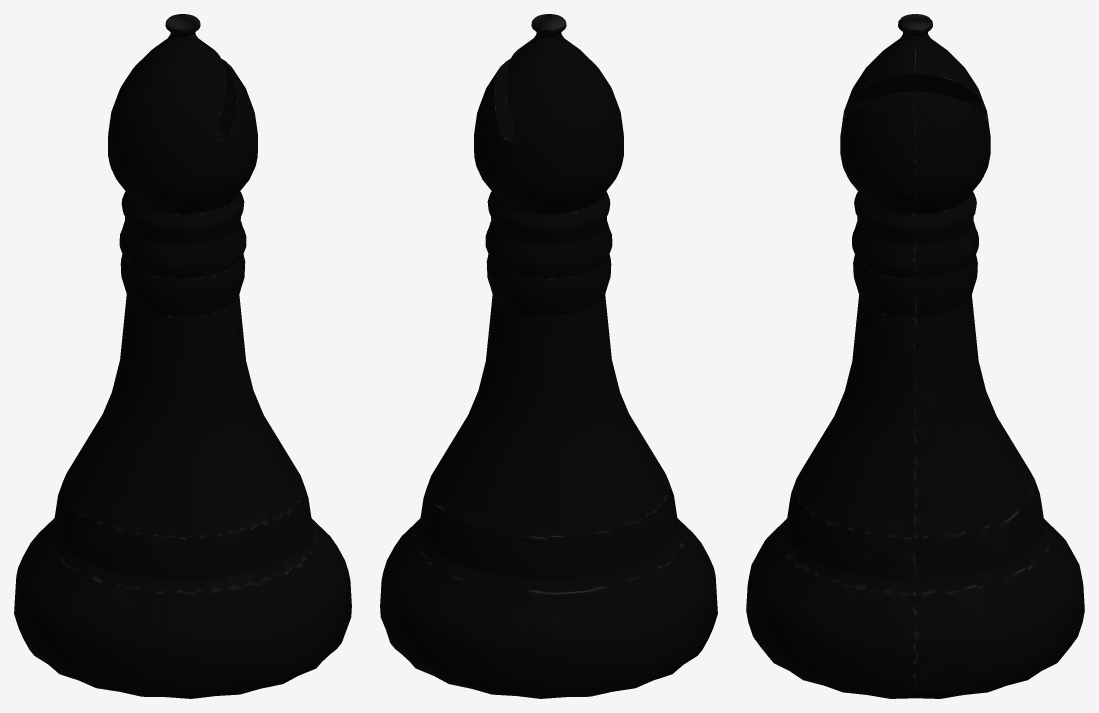
File: Alfil_Negro.glb
The picture shows the model from 3 angles, left to right: view 1: azimuth 30°, elevation 25°; view 2: azimuth 150°, elevation 25°; view 3: azimuth 270°, elevation 25°; orthographic projection.
Parts seen in each view (by area): view 1: alfil_b_1; view 2: alfil_b_1; view 3: alfil_b_1.
Boxes of the visible parts, x1=… form: alfil_b_1: x1=14, y1=14, x2=351, y2=698; alfil_b_1: x1=380, y1=14, x2=717, y2=698; alfil_b_1: x1=746, y1=14, x2=1084, y2=698.
Bounding box in the file's own units: 0.8321 × 1.67 × 0.8321.
1 material, 1 textured.
